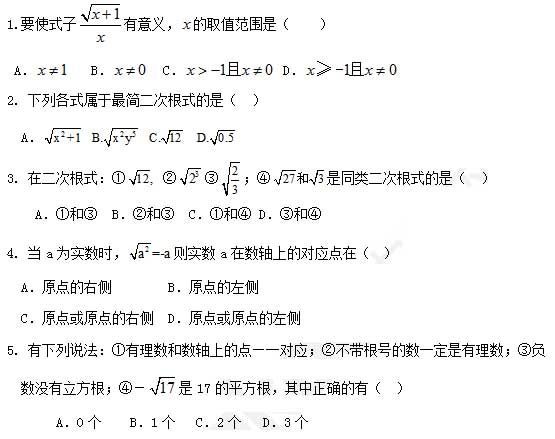cube: (194, 169, 199, 179)
division: (76, 19, 128, 31), (229, 177, 240, 184)
sqrt: (79, 1, 121, 24), (44, 125, 81, 148), (104, 124, 139, 148), (222, 159, 244, 197), (177, 164, 203, 188), (149, 374, 173, 400), (275, 165, 296, 193), (127, 165, 151, 189), (127, 239, 151, 263), (210, 128, 236, 147), (162, 127, 185, 146), (309, 168, 326, 189)
square: (142, 244, 150, 254), (60, 130, 68, 138), (120, 130, 124, 137)
